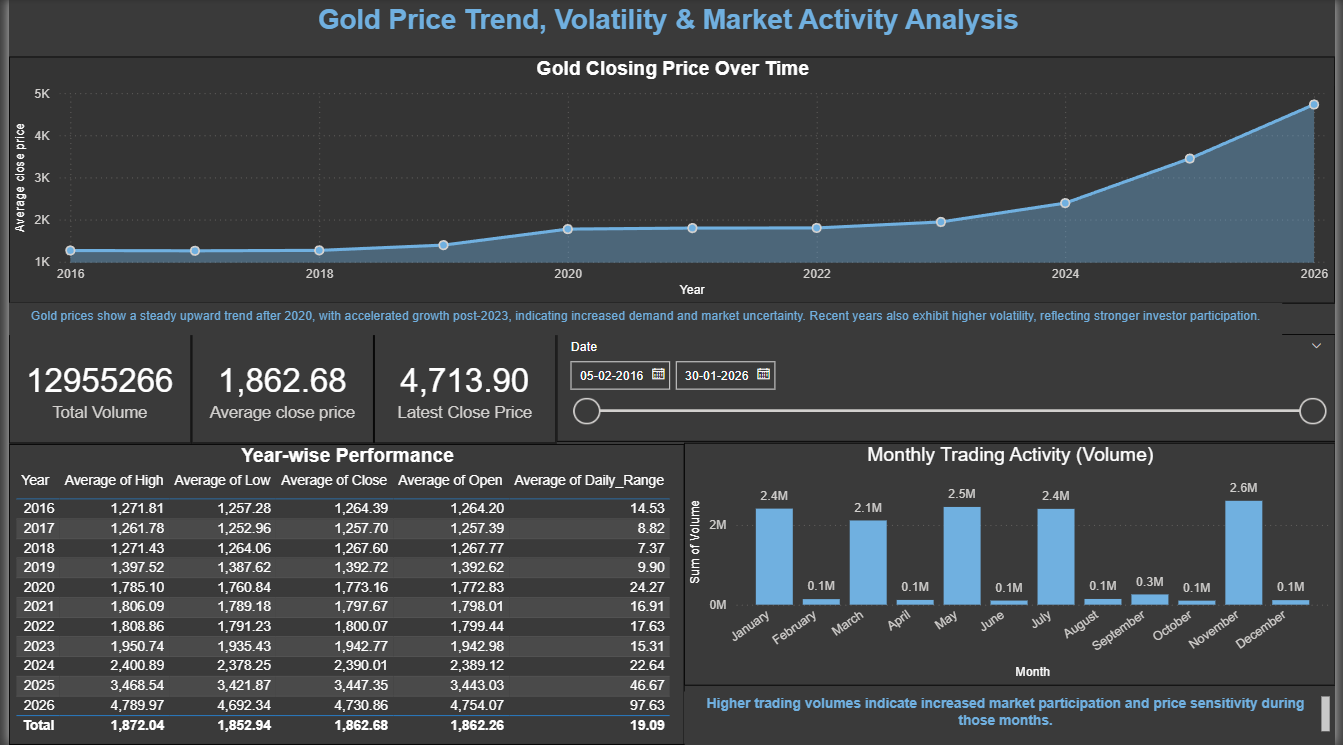

The dashboard page shown, as its layout file describes it:
{"tool":"powerbi","page":{"name":"Page 1","canvas":[1280,720],"ordinal":0},"visuals":[{"type":"areaChart","title":"Gold Closing Price Over Time","fields":{"Category":["gold_historical_data.Date.Variation.Date Hierarchy.Year","gold_historical_data.Date.Variation.Date Hierarchy.Quarter","gold_historical_data.Date.Variation.Date Hierarchy.Month","gold_historical_data.Date.Variation.Date Hierarchy.Day"],"Y":["gold_historical_data.Avg_close_price"]},"box":[0,55,1280,238],"z":0},{"type":"card","fields":{"Values":["gold_historical_data.Total_volume"]},"box":[0,323.9,176,105.6],"z":1000},{"type":"slicer","fields":{"Values":["gold_historical_data.Date"]},"box":[528.1,323.9,751.9,104.2],"z":2000},{"type":"tableEx","title":"Year-wise Performance","fields":{"Values":["gold_historical_data.Date.Variation.Date Hierarchy.Year","Avg(gold_historical_data.High)","Avg(gold_historical_data.Low)","Avg(gold_historical_data.Close)","Avg(gold_historical_data.Open)","Avg(gold_historical_data.Daily_Range)"]},"box":[0,429.5,652,290.1],"z":3000},{"type":"columnChart","title":"Monthly Trading Activity (Volume)","fields":{"Y":["Sum(gold_historical_data.Volume)"],"Category":["gold_historical_data.Date.Variation.Date Hierarchy.Month"]},"box":[651.4,428.6,628.6,234.3],"z":4000},{"type":"card","fields":{"Values":["gold_historical_data.Avg_close_price"]},"box":[176,323.9,176,105.6],"z":5000},{"type":"card","fields":{"Values":["gold_historical_data.Latest_close_price"]},"box":[352,323.9,176,105.6],"z":6000},{"type":"textbox","box":[0,0,1280,54.9],"z":7000},{"type":"textbox","box":[0,293,1229,31],"z":7001},{"type":"textbox","box":[651.4,668.6,628.6,50],"z":7002}]}

Visuals, with their boxes in screenshot pixels (x1, y1, x2, y2), scaled from the page's 1280x720 canvas onto the 1343x745 screenshot:
"Gold Closing Price Over Time" areaChart: bbox(0, 57, 1342, 303)
card - gold_historical_data.Total_volume: bbox(0, 335, 185, 444)
slicer - gold_historical_data.Date: bbox(554, 335, 1342, 443)
"Year-wise Performance" tableEx: bbox(0, 444, 684, 744)
"Monthly Trading Activity (Volume)" columnChart: bbox(683, 443, 1342, 686)
card - gold_historical_data.Avg_close_price: bbox(185, 335, 369, 444)
card - gold_historical_data.Latest_close_price: bbox(369, 335, 554, 444)
textbox: bbox(0, 0, 1342, 57)
textbox: bbox(0, 303, 1289, 335)
textbox: bbox(683, 692, 1342, 744)
